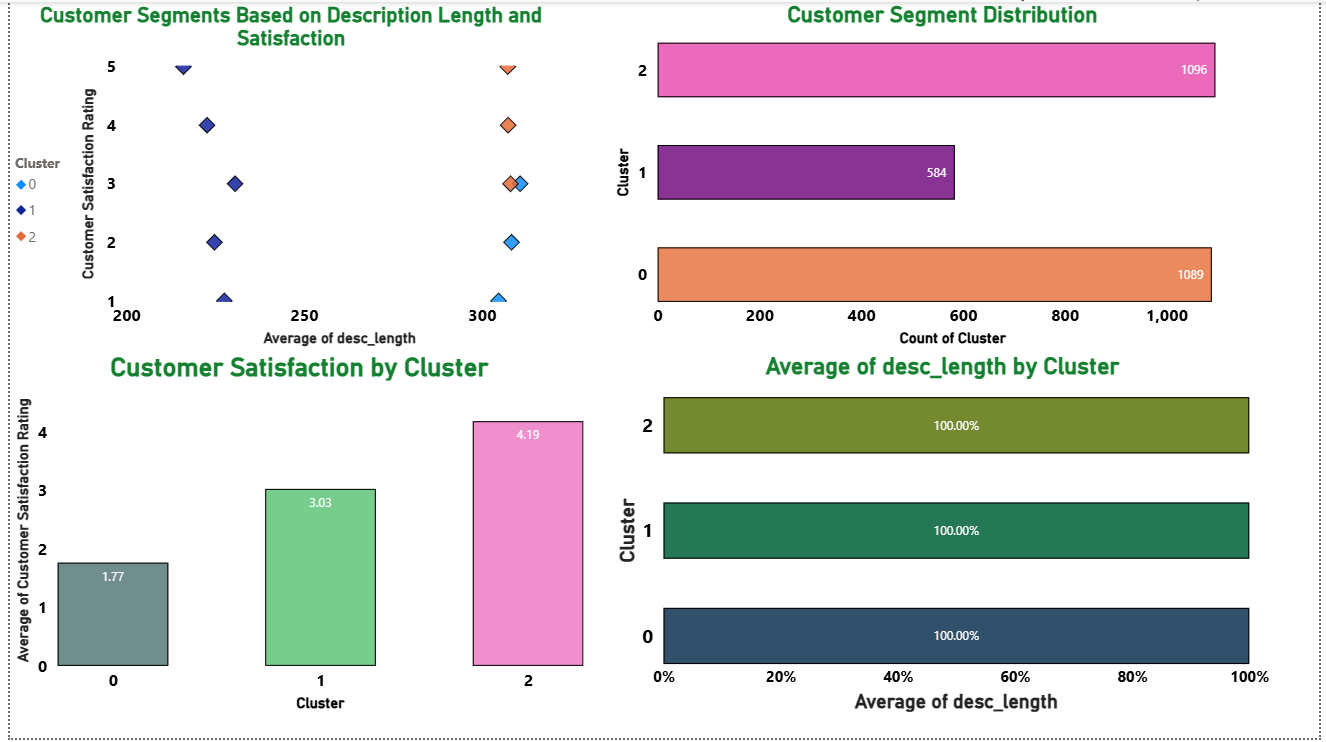

The dashboard page shown, as its layout file describes it:
{"tool":"powerbi","page":{"name":"Customer Segmentation","canvas":[1280,720],"ordinal":2},"visuals":[{"type":"clusteredColumnChart","title":"Customer Satisfaction by Cluster","fields":{"Category":["final_dataset.Cluster"],"Y":["Avg(final_dataset.Customer Satisfaction Rating)"]},"box":[0,342.4,566.2,357.1],"z":0},{"type":"clusteredBarChart","title":"Customer Segment Distribution","fields":{"Category":["final_dataset.Cluster"],"Y":["CountNonNull(final_dataset.Cluster)"]},"box":[587,0,650.5,342.4],"z":1000},{"type":"scatterChart","title":"Customer Segments Based on Description Length and Satisfaction","fields":{"X":["Avg(final_dataset.desc_length)"],"Y":["final_dataset.Customer Satisfaction Rating"],"Series":["final_dataset.Cluster"]},"box":[0,0,550.3,342.4],"z":2000},{"type":"hundredPercentStackedBarChart","fields":{"Category":["final_dataset.Cluster"],"Y":["Avg(final_dataset.desc_length)"]},"box":[587,342.4,650.5,357.1],"z":3000}]}

Visuals, with their boxes in screenshot pixels (x1, y1, x2, y2), scaled from the page's 1280x720 canvas onto the 1326x742 screenshot:
"Customer Satisfaction by Cluster" clusteredColumnChart: select_region(0, 353, 587, 721)
"Customer Segment Distribution" clusteredBarChart: select_region(608, 0, 1282, 353)
"Customer Segments Based on Description Length and Satisfaction" scatterChart: select_region(0, 0, 570, 353)
hundredPercentStackedBarChart - final_dataset.Cluster x Avg(final_dataset.desc_length): select_region(608, 353, 1282, 721)
